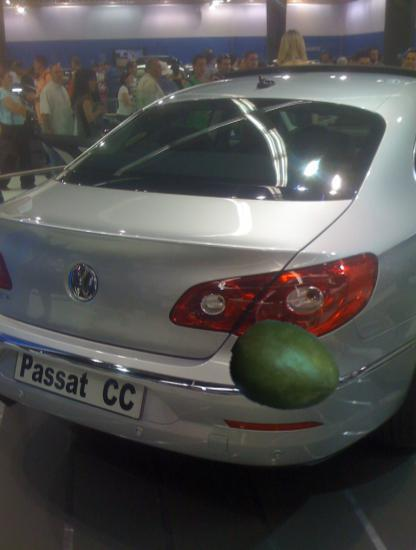Mango: (228, 313, 342, 427)
